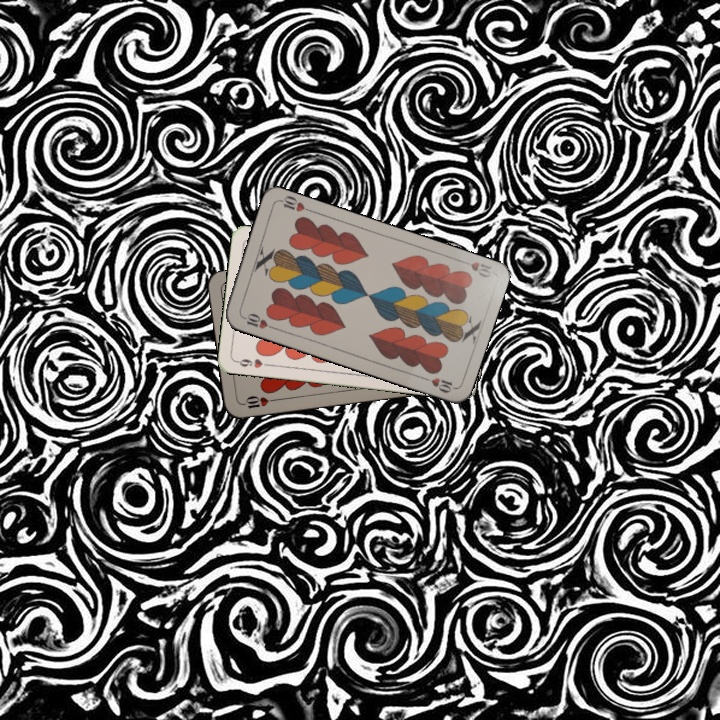H10: (456, 256, 494, 280), (238, 309, 277, 332), (238, 392, 279, 411)
H9: (232, 355, 273, 370)
